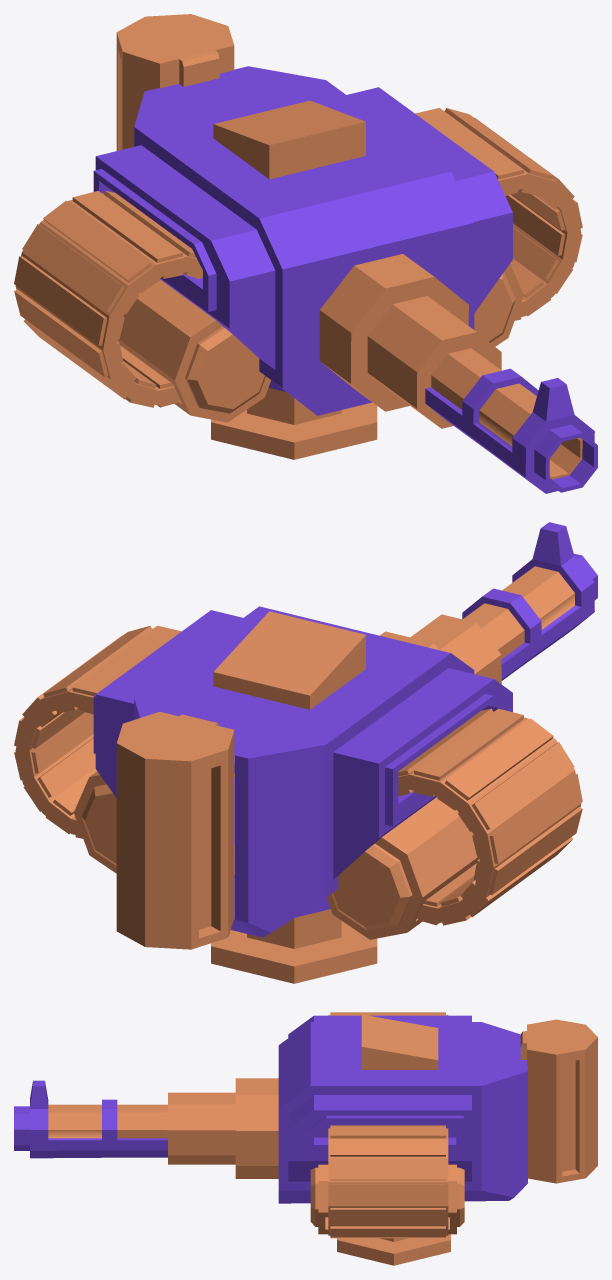
Rendered from GatlingTurret.fbx.
The picture shows the model from 3 angles, top to bottom: view 1: azimuth 30°, elevation 25°; view 2: azimuth 150°, elevation 25°; view 3: azimuth 270°, elevation 25°; orthographic projection. The views are drawn at different scales.
Parts seen in each view (by area): view 1: Gattling Pillar; view 2: Gattling Pillar; view 3: Gattling Pillar.
Boxes of the visible parts, box(x1,y1,x2,y2) form: Gattling Pillar: box(14, 14, 597, 493); Gattling Pillar: box(14, 522, 597, 983); Gattling Pillar: box(14, 1012, 597, 1265).
Size of the model in its own units: 160 by 95.9 by 245.
